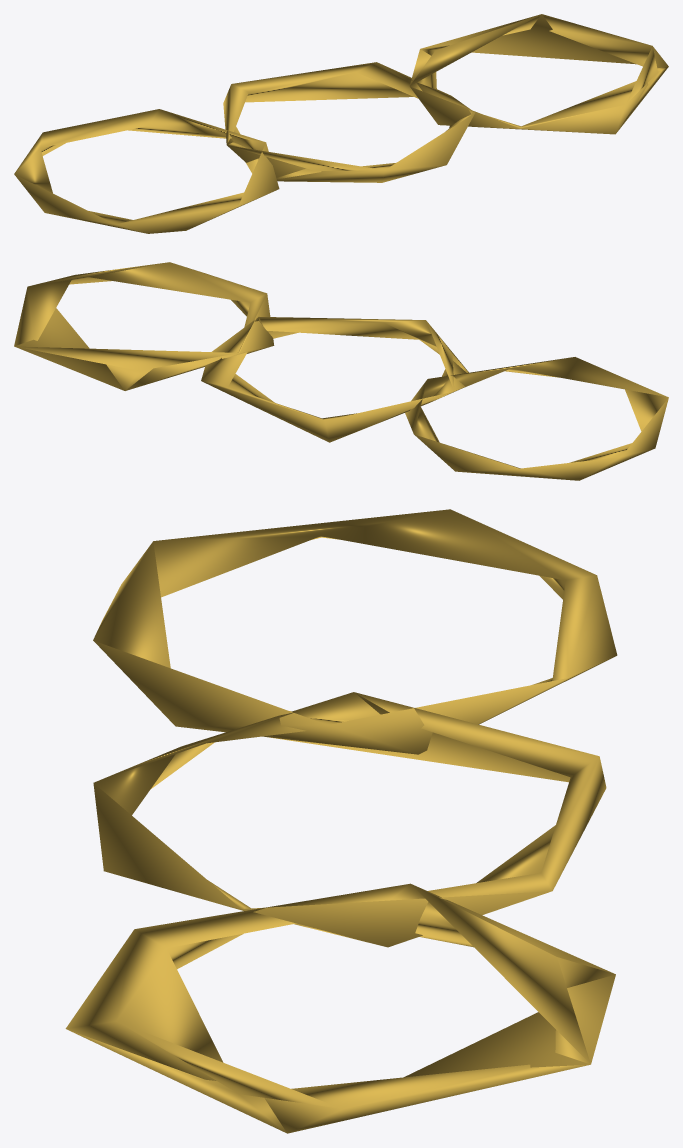
Rendered from vong_dich_lon.glb.
The picture shows the model from 3 angles, top to bottom: view 1: azimuth 30°, elevation 25°; view 2: azimuth 150°, elevation 25°; view 3: azimuth 270°, elevation 25°; orthographic projection. The views are drawn at different scales.
Visible parts, largest first — view 1: vong_dich_lon; view 2: vong_dich_lon; view 3: vong_dich_lon.
Part boxes in pixels (x1,y1,x2,y2): vong_dich_lon: (14, 14, 668, 233); vong_dich_lon: (14, 262, 668, 480); vong_dich_lon: (65, 509, 617, 1133).
Bounding box in the file's own units: 0.4929 × 0.0152 × 0.1913.
